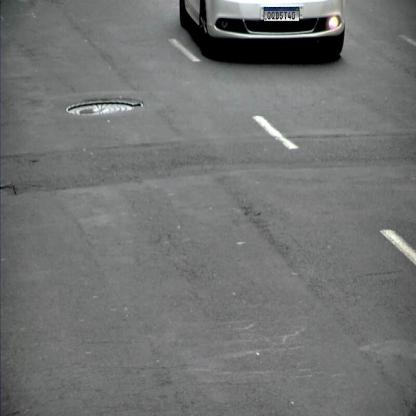PlacaM: (264, 7, 300, 21)
